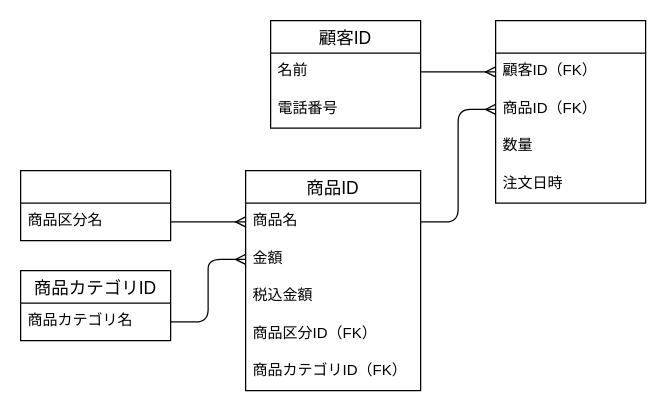
Image size: 666x411. Some labels were removed from this diagram. Here are the shapes that lost their labels. From the top down, the box of each, then its label:
(494, 19, 646, 203): 注文ID
(19, 169, 171, 241): 商品区分ID
